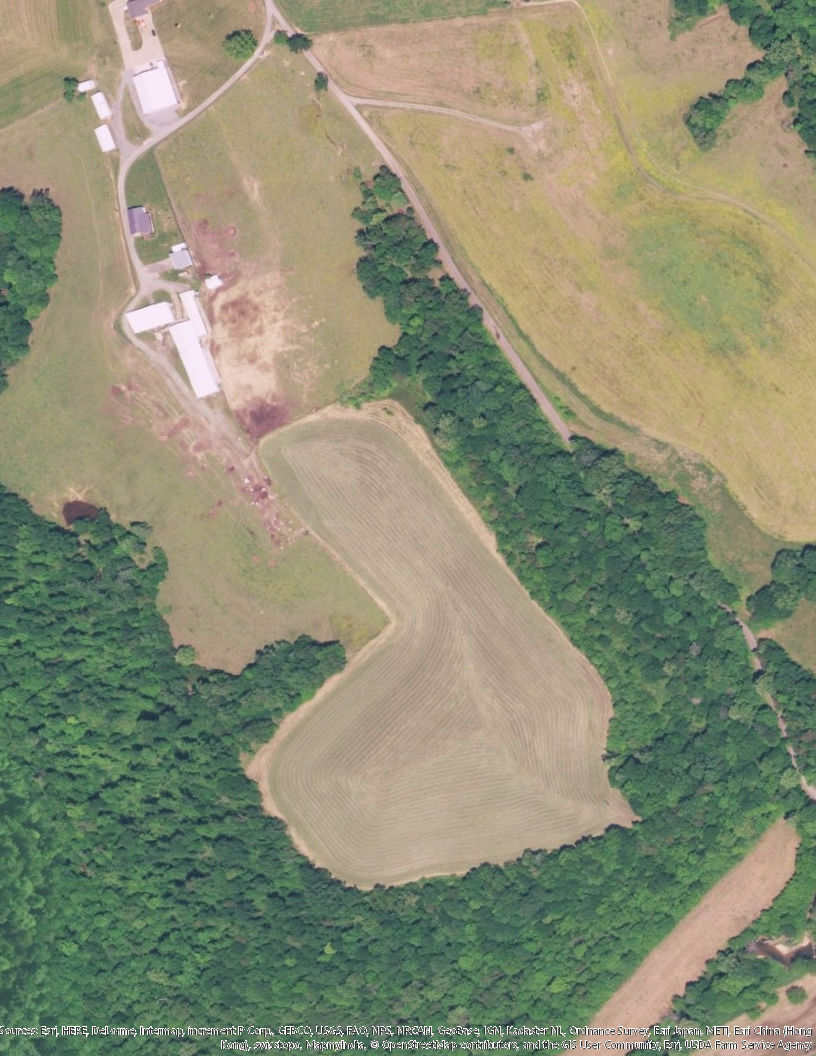cafo: (165, 290, 225, 400), (124, 301, 179, 339)
